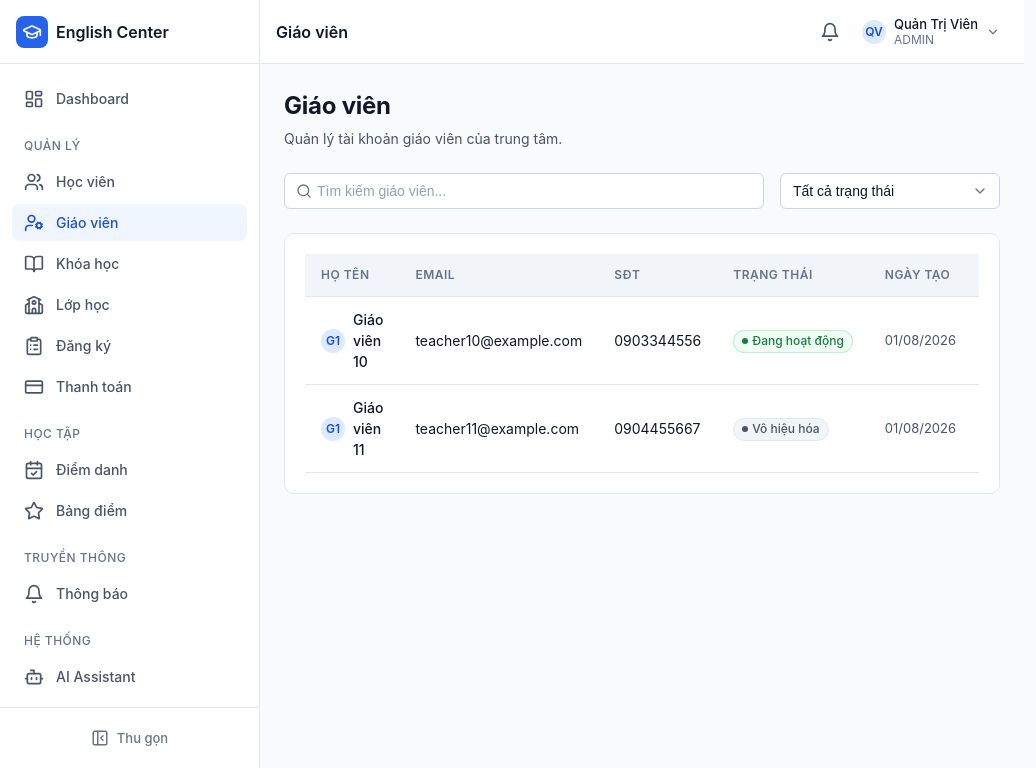
it: AdminTeachersPage › filters teachers by search keyword (name and email) client-side
expect the text "Giáo viên 10" is shown: met, box [353,309,383,372]
Type "giáo viên 11" into the search field labelled "Tìm kiếm giáo viên".
click(524, 191); type("giáo viên 11")  # box [284,173,764,209]
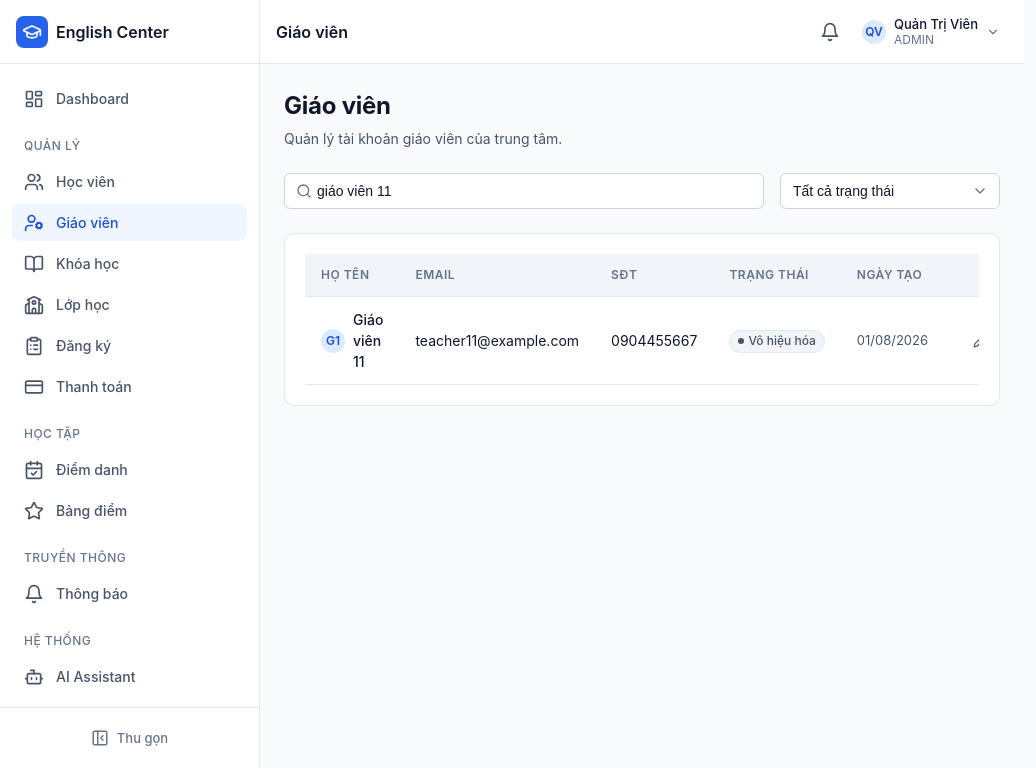
expect the text "Giáo viên 11" is shown: met, box [353,309,383,372]
expect the text "Giáo viên 10" is gone: met
Replace the text in the search field named "Tìm kiếm giáo viên" with "teacher10@example.com" at (524, 191), box [284,173,764,209]
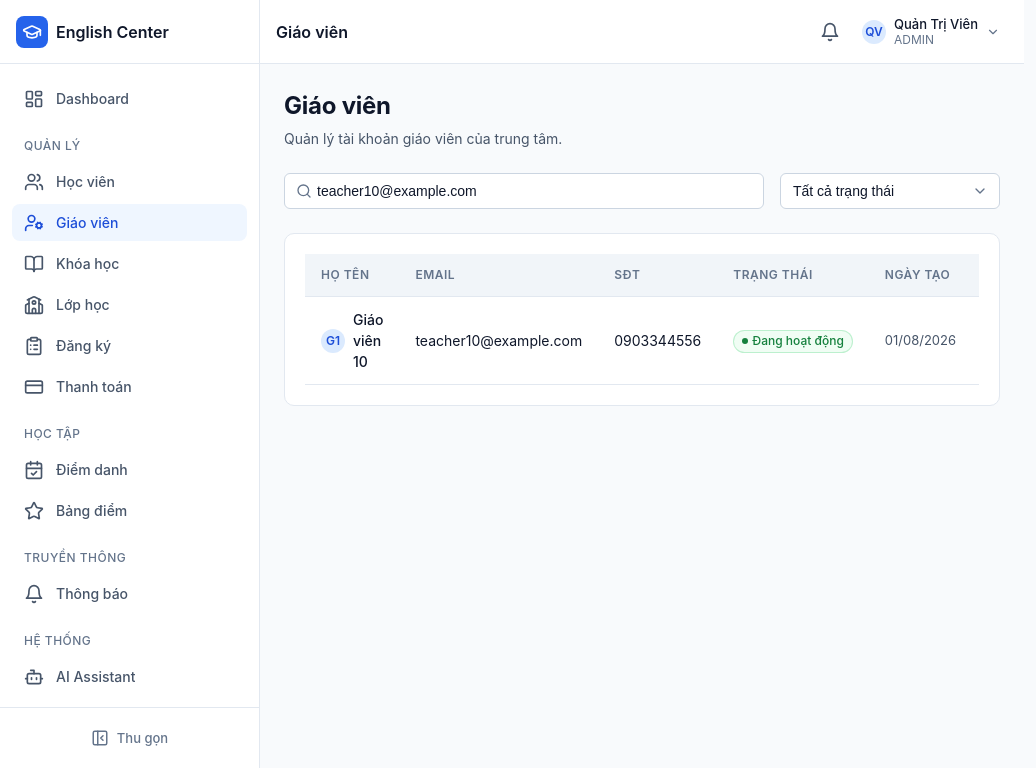
expect the text "Giáo viên 11" is gone: met
expect the text "Giáo viên 10" is shown: met, box [353,309,383,372]
